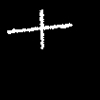single_crochet: (7, 10, 71, 48)
